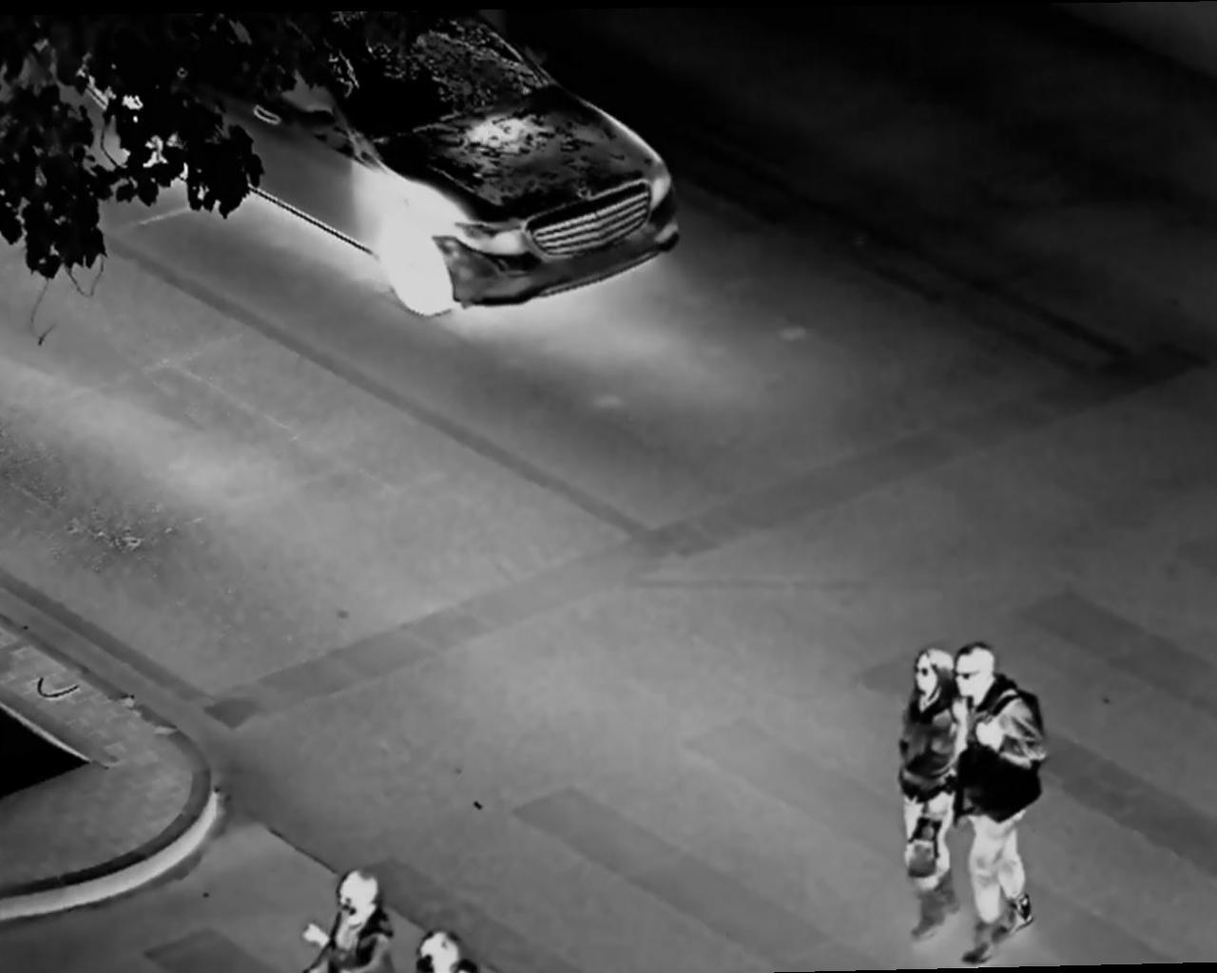person: (959, 649, 1057, 954), (894, 642, 984, 936), (289, 851, 411, 973), (415, 918, 472, 973)
